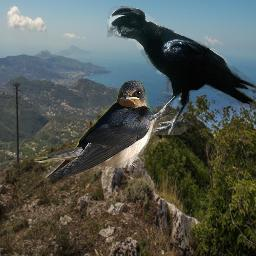Crow: (107, 6, 256, 135)
Swallow: (32, 80, 155, 178)
